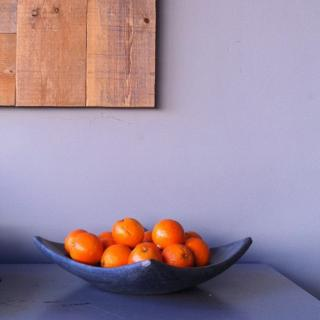Orange: (62, 216, 211, 268), (64, 229, 106, 263)
